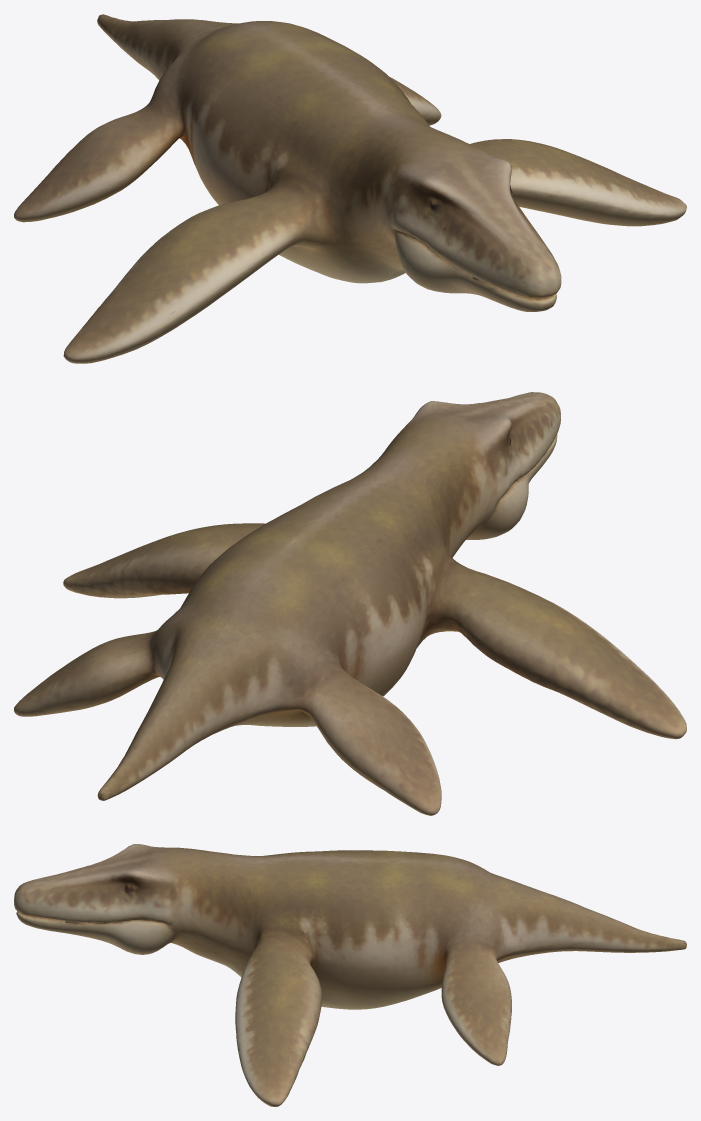
3 renders of one model, top to bottom at view 1: azimuth 30°, elevation 25°; view 2: azimuth 150°, elevation 25°; view 3: azimuth 270°, elevation 25°, orthographic. The views are drawn at different scales.
Visible parts, largest first — view 1: world; view 2: world; view 3: world.
Part boxes in pixels (bbox=[...]): world: bbox=[14, 14, 686, 363]; world: bbox=[14, 392, 686, 815]; world: bbox=[14, 844, 686, 1106].
Size of the model in its own units: 5.18 by 1.61 by 6.5.
Materials: 1 (1 with a texture image).
